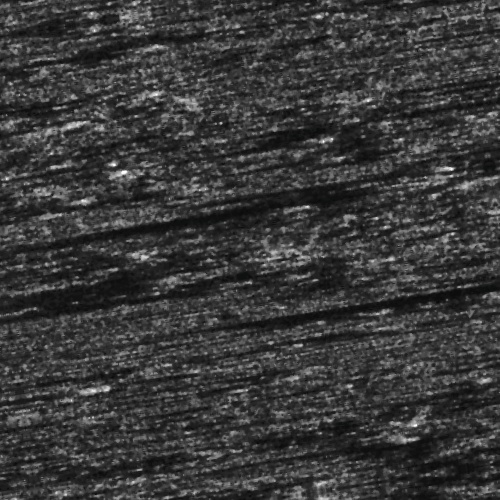object: (359, 205, 442, 214), (359, 454, 400, 463)
shadow: (0, 205, 401, 214), (291, 191, 500, 208), (210, 454, 380, 463), (478, 120, 500, 123)
